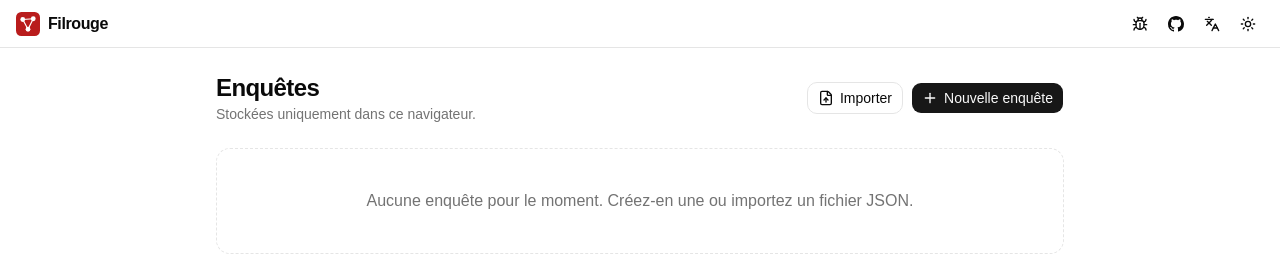
Test: LanguageMenu › offers both languages, the active one checked
Click the button named "Changer de langue" at (1212, 24), box [1196,8,1228,40]
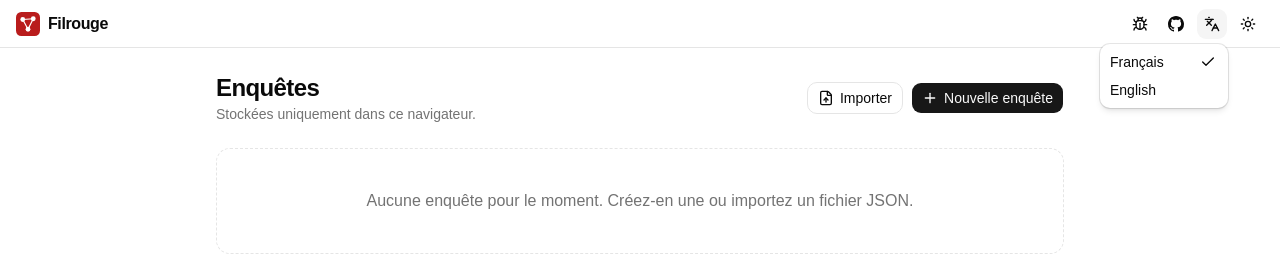
Now the menu item "Français" is checked, box [1110,54,1216,70]
Now the menu item "English" is not checked, box [1110,82,1156,98]
